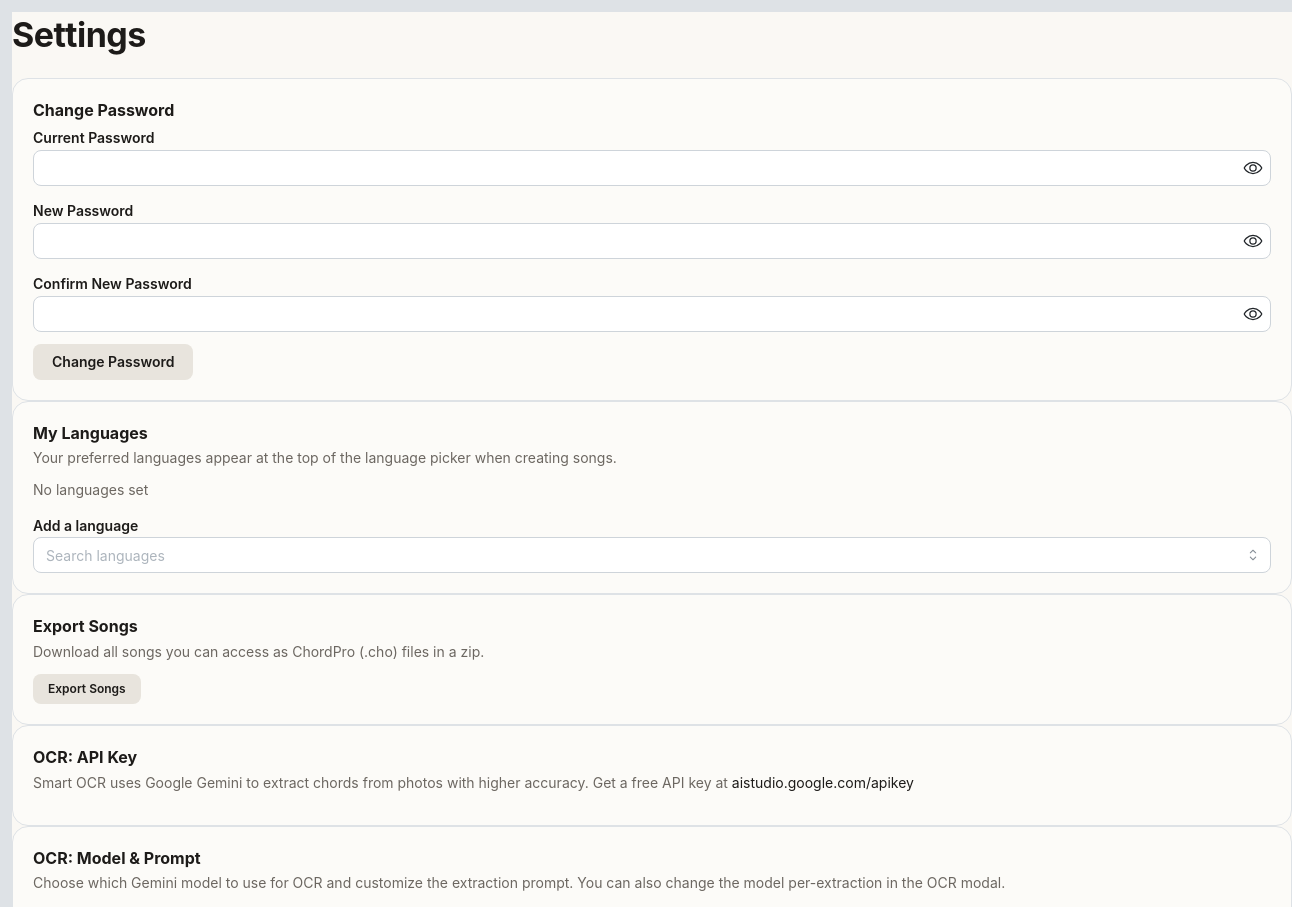
Test case: resets passwords and announces a successful save
In the password field labelled "Current Password": (652,168) [34,151,1270,185], type "oldpass"
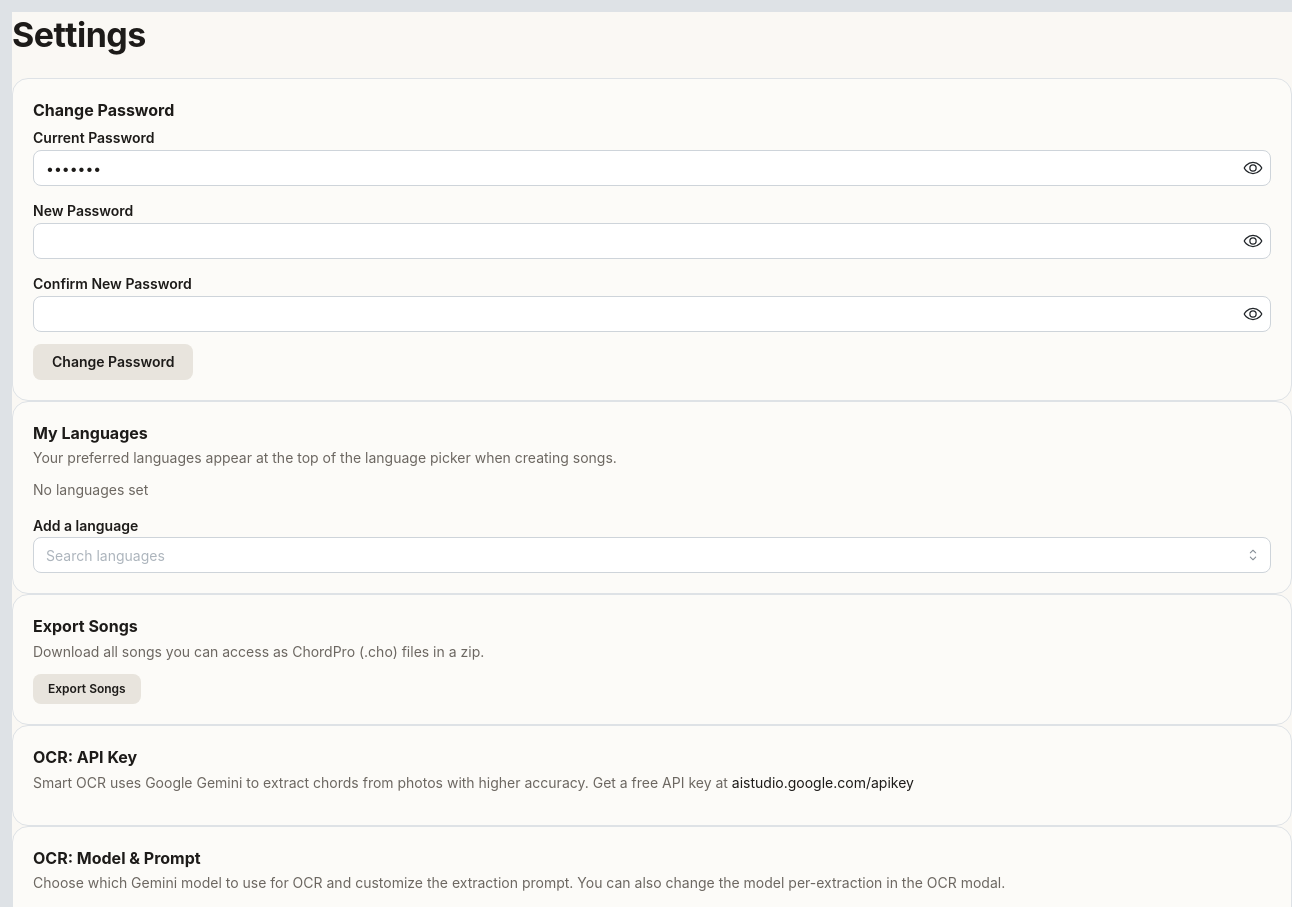
In the password field labelled "New Password": (652,241) [34,224,1270,258], type "newpass"
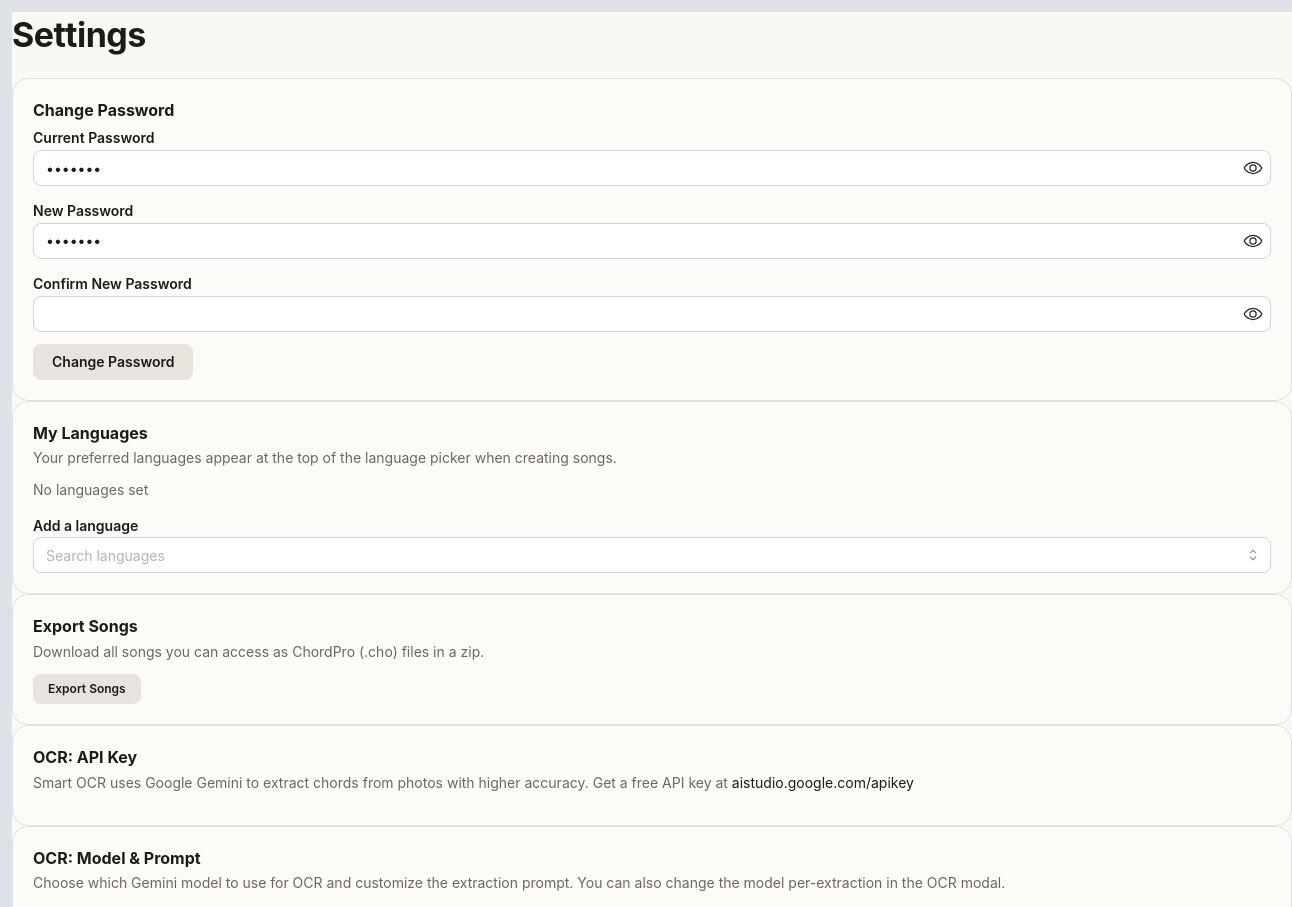
In the password field labelled "Confirm New Password": (652,314) [34,297,1270,331], type "newpass"
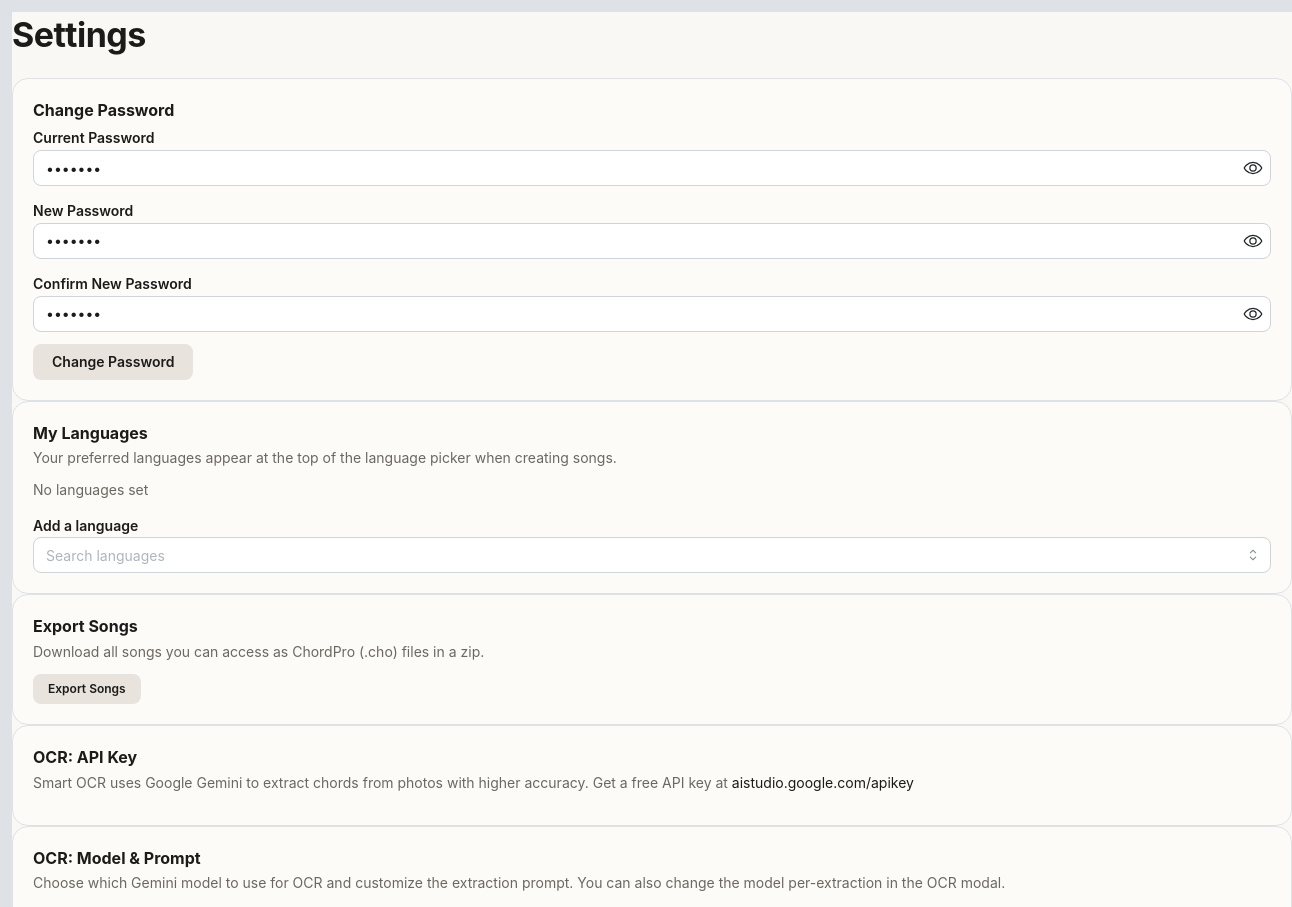
Click the button "Change Password": (113,362) [33,344,193,380]
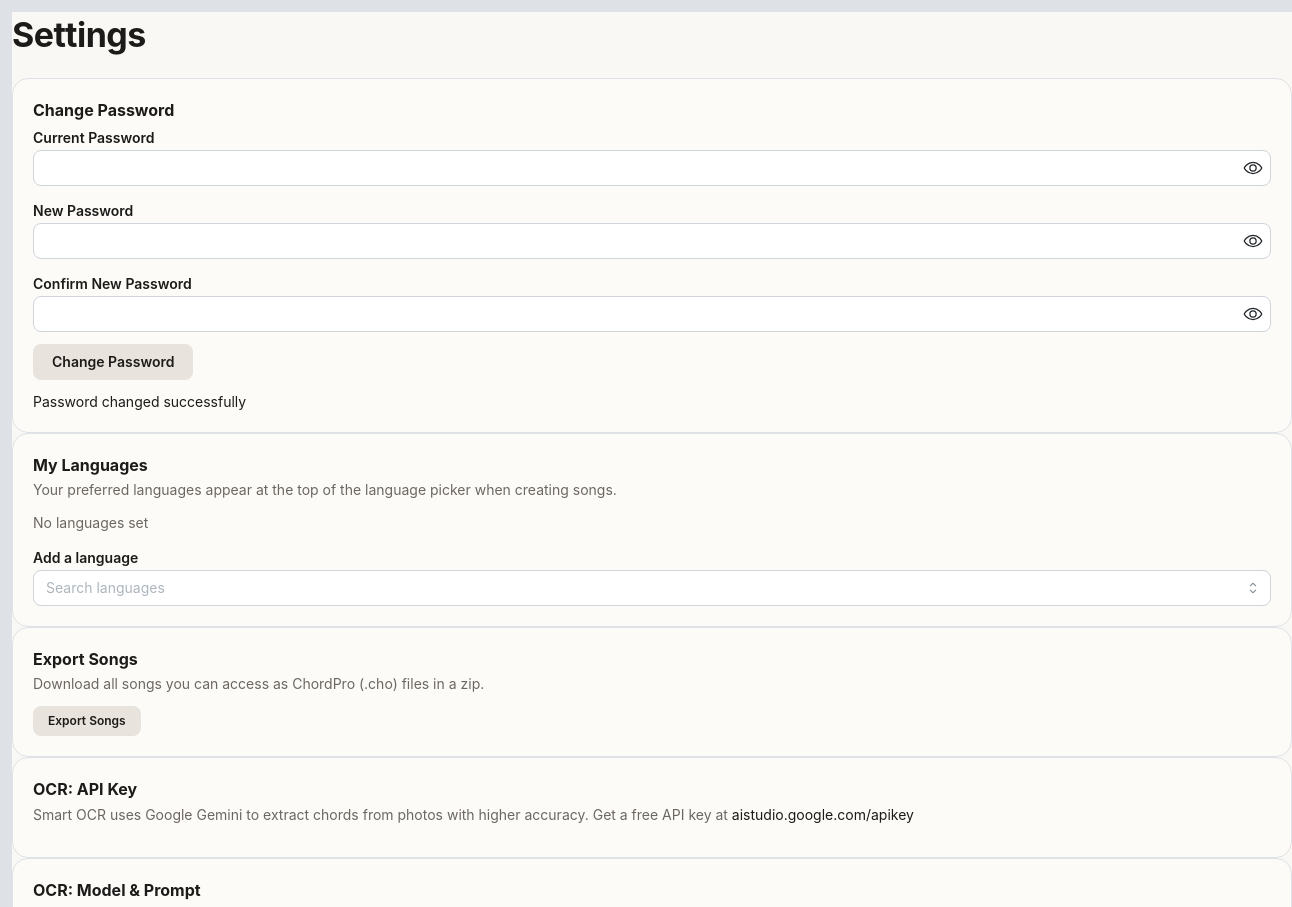
Expected: the message reads "Password changed successfully", [33,393,246,410]
Expected: the password field labelled "Current Password" is empty, [34,151,1270,185]
Expected: the password field labelled "New Password" is empty, [34,224,1270,258]
